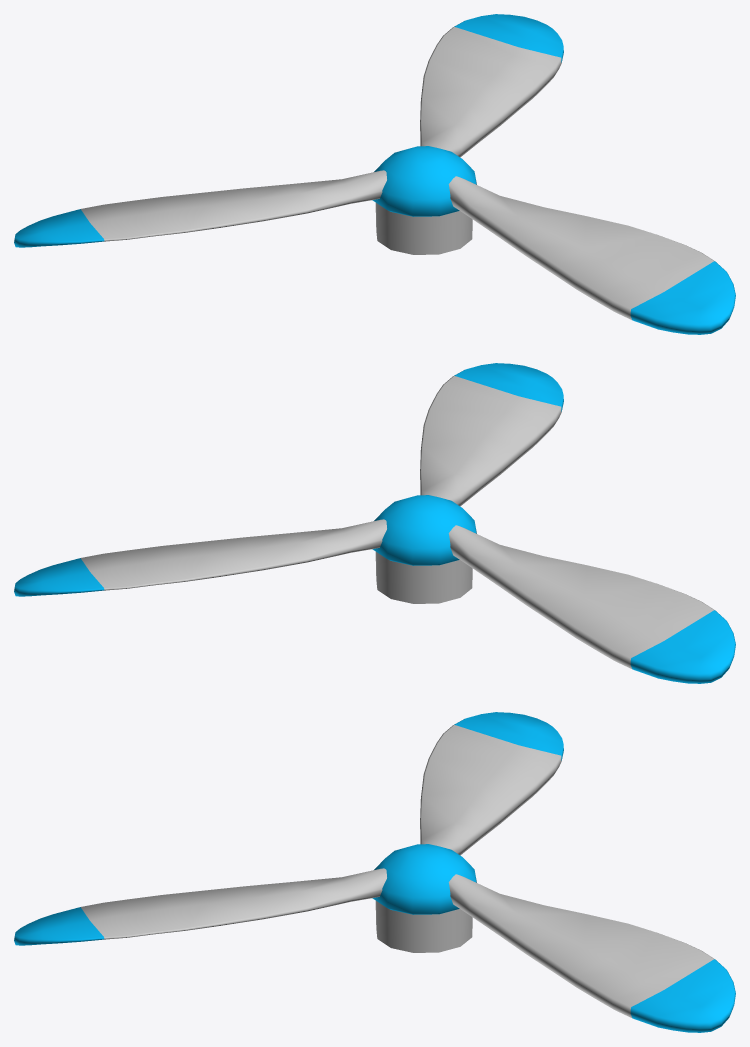
File: Propeller.fbx
3 renders of one model, top to bottom at view 1: azimuth 30°, elevation 25°; view 2: azimuth 150°, elevation 25°; view 3: azimuth 270°, elevation 25°, orthographic.
Parts seen in each view (by area): view 1: PRP_FloatingCam_Propeller_0, PRP_FloatingCam_Propeller_1, PRP_FloatingCam_Propeller_2; view 2: PRP_FloatingCam_Propeller_0, PRP_FloatingCam_Propeller_1, PRP_FloatingCam_Propeller_2; view 3: PRP_FloatingCam_Propeller_0, PRP_FloatingCam_Propeller_1, PRP_FloatingCam_Propeller_2.
Part boxes in pixels (<box>): PRP_FloatingCam_Propeller_0: <box>81,27,714,319</box>; PRP_FloatingCam_Propeller_1: <box>14,14,735,334</box>; PRP_FloatingCam_Propeller_2: <box>375,203,472,254</box>; PRP_FloatingCam_Propeller_0: <box>81,376,714,668</box>; PRP_FloatingCam_Propeller_1: <box>14,363,735,683</box>; PRP_FloatingCam_Propeller_2: <box>375,552,472,603</box>; PRP_FloatingCam_Propeller_0: <box>81,725,714,1017</box>; PRP_FloatingCam_Propeller_1: <box>14,712,735,1032</box>; PRP_FloatingCam_Propeller_2: <box>375,901,472,952</box>.
Bounding box in the file's own units: 16.16 × 2.06 × 16.24.
